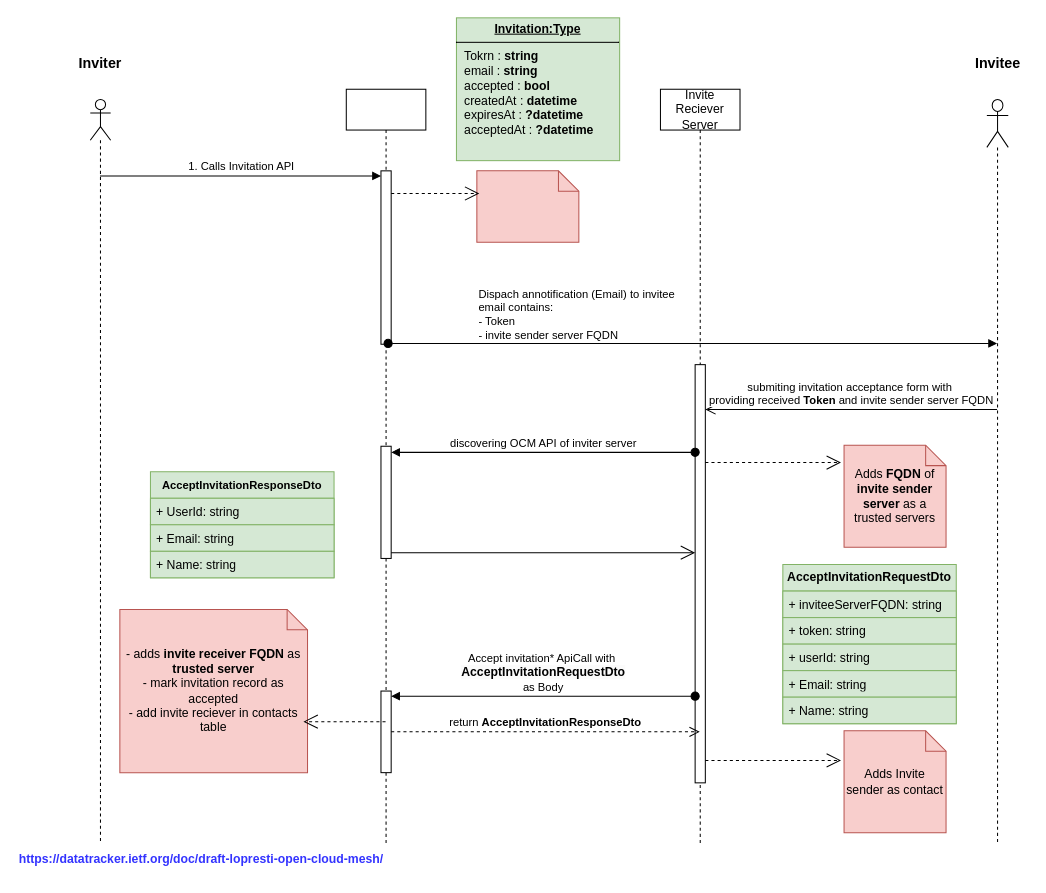
This 1046x893 diagram has some shape labels left out. The shapes that lost their labels are listed below. From the top down, each one's centre as x and y in pixels, then its label:
the point at 527,206: Creates an invitation* recorrd in databse
the point at 385,466: Invite Sender Server
